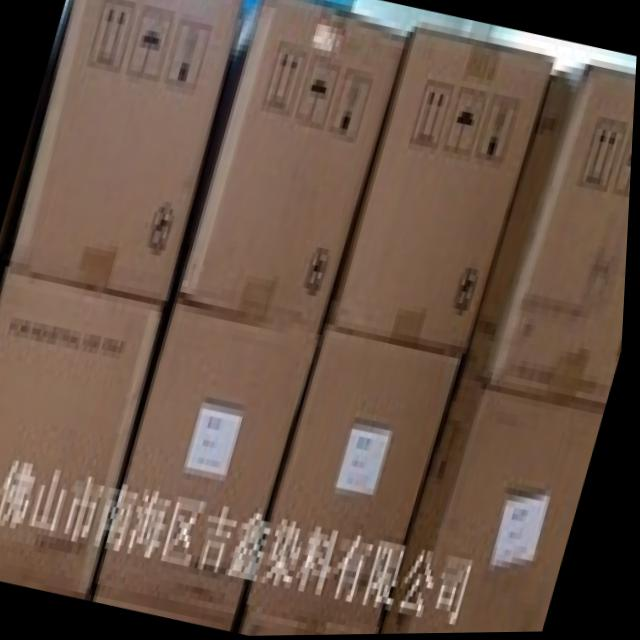box: (181, 0, 406, 335), (96, 304, 325, 632), (329, 28, 557, 355), (11, 0, 244, 307), (248, 331, 465, 637), (385, 361, 609, 635), (469, 67, 637, 411), (0, 266, 167, 600)
